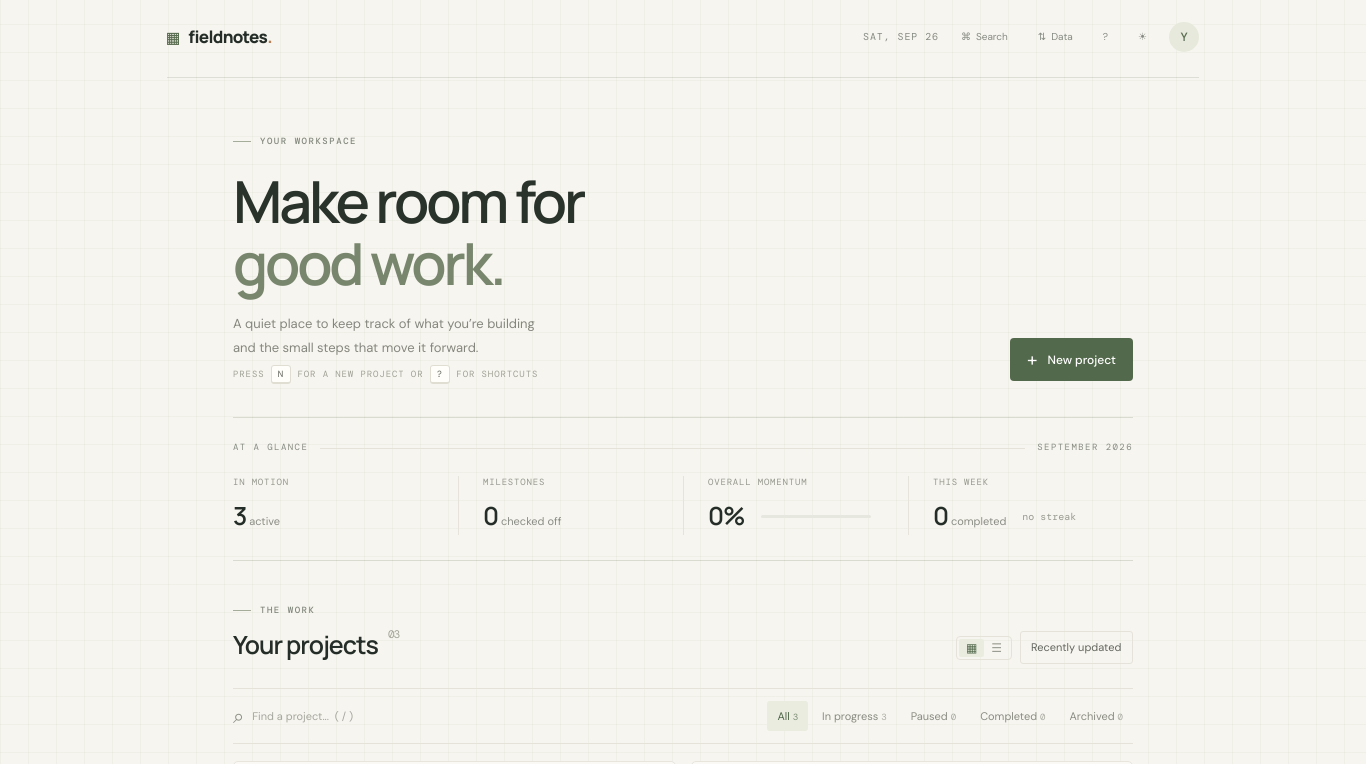
Test: App: search and filter › shows a clear-filters affordance when nothing matches
Type "zzzzz" into the search field named "search projects" at (352, 716), box x1=252 y1=708 x2=452 y2=724
(page scrolled)
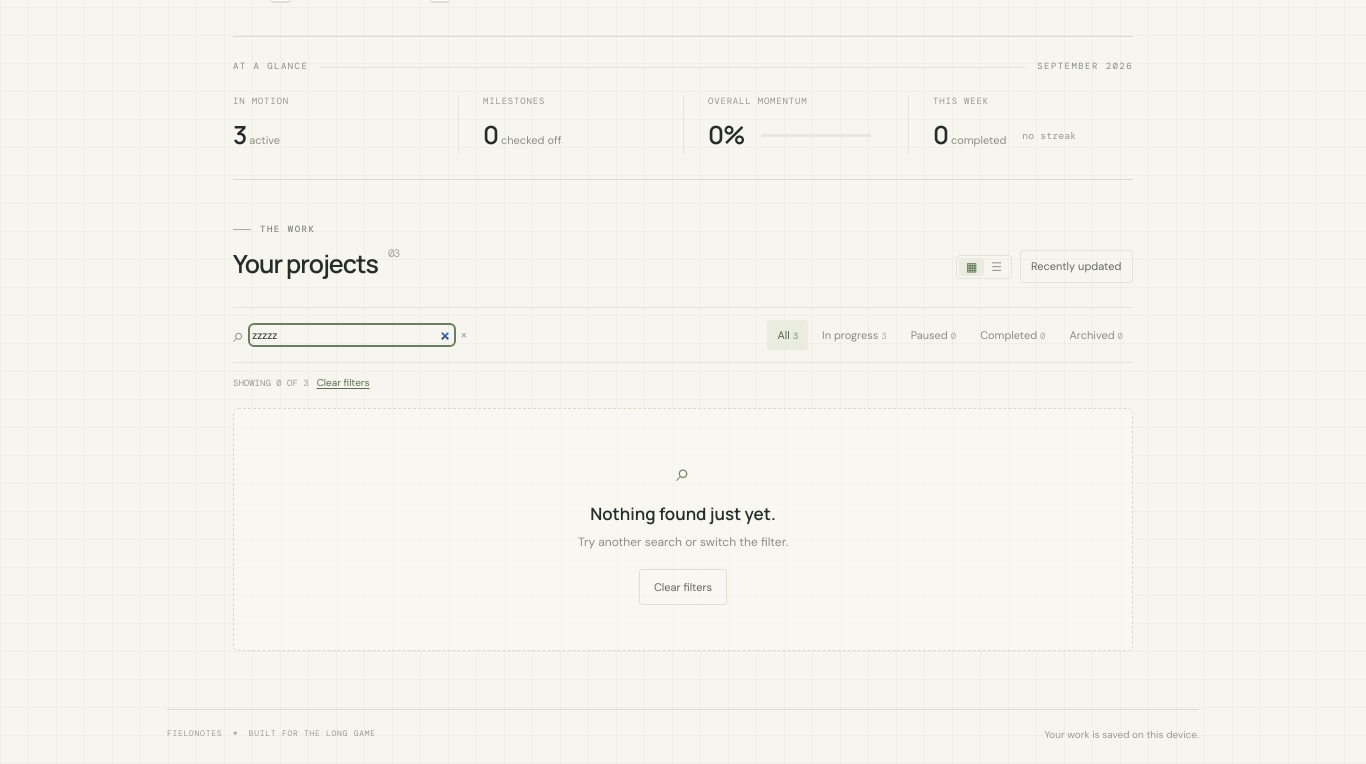
Result: the heading "Nothing found just yet." is shown at x1=590 y1=502 x2=776 y2=525
Click the button "Clear filters" in the row of "SHOWING" at (343, 383), box x1=317 y1=375 x2=370 y2=390
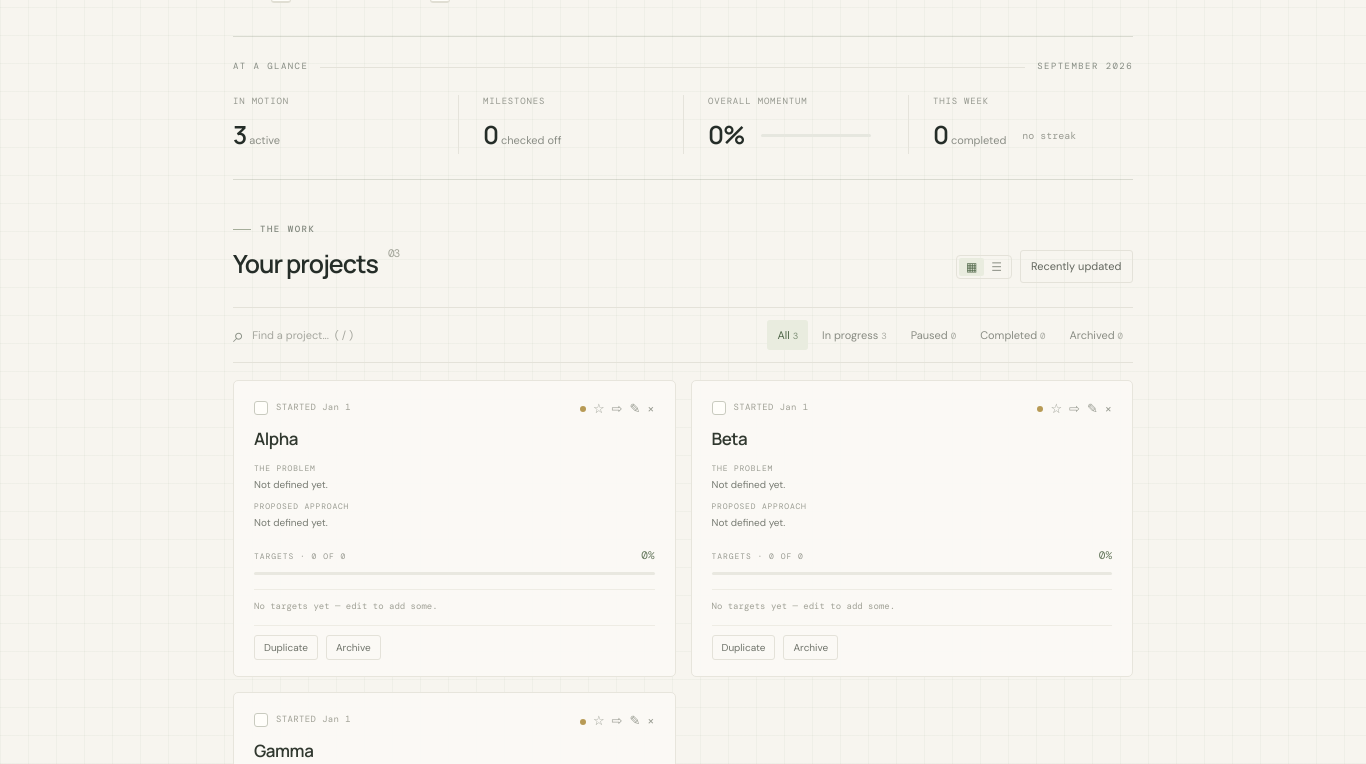
Result: the button "Alpha" is shown at x1=254 y1=428 x2=298 y2=450
